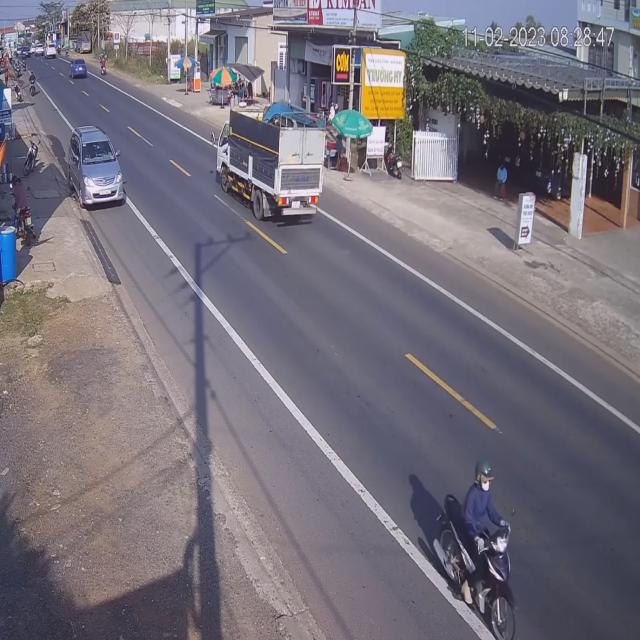car: (67, 124, 126, 208), (70, 58, 87, 80)
motorbike: (440, 464, 516, 640)
truck: (217, 104, 326, 220)
